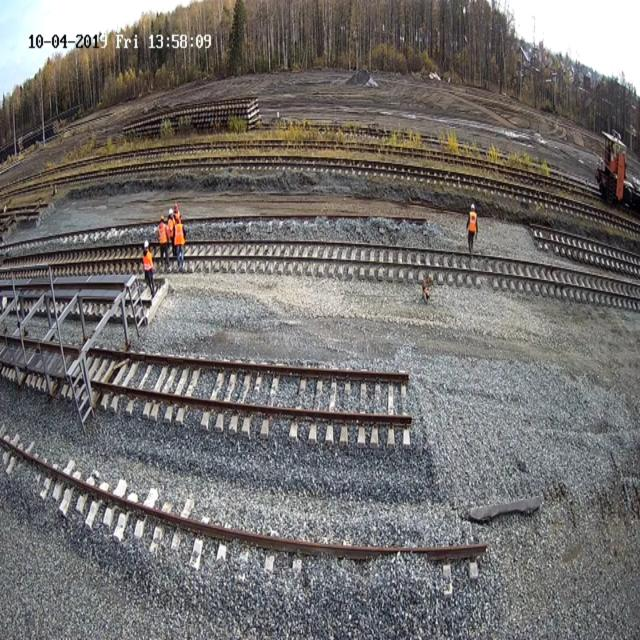Helmet: (168, 208, 173, 216), (144, 239, 148, 248), (470, 203, 475, 209)
Person: (159, 198, 191, 258), (142, 239, 156, 297), (466, 203, 478, 254)
